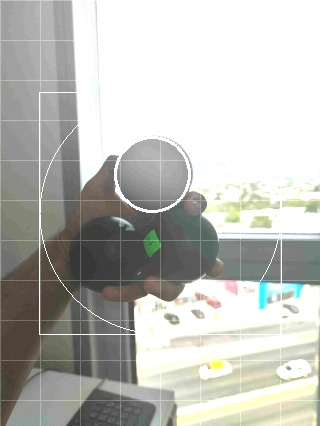Pelota blanca: (113, 132, 193, 214), (113, 0, 173, 27)
